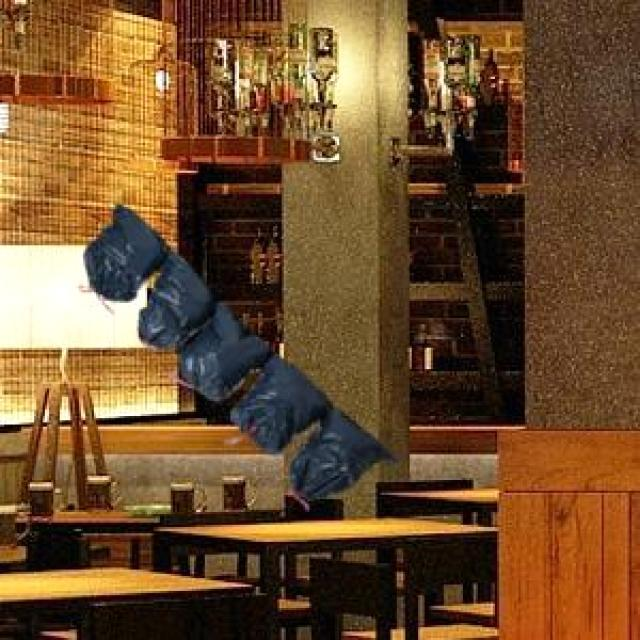Garbage_Bag: (80, 202, 394, 496)
